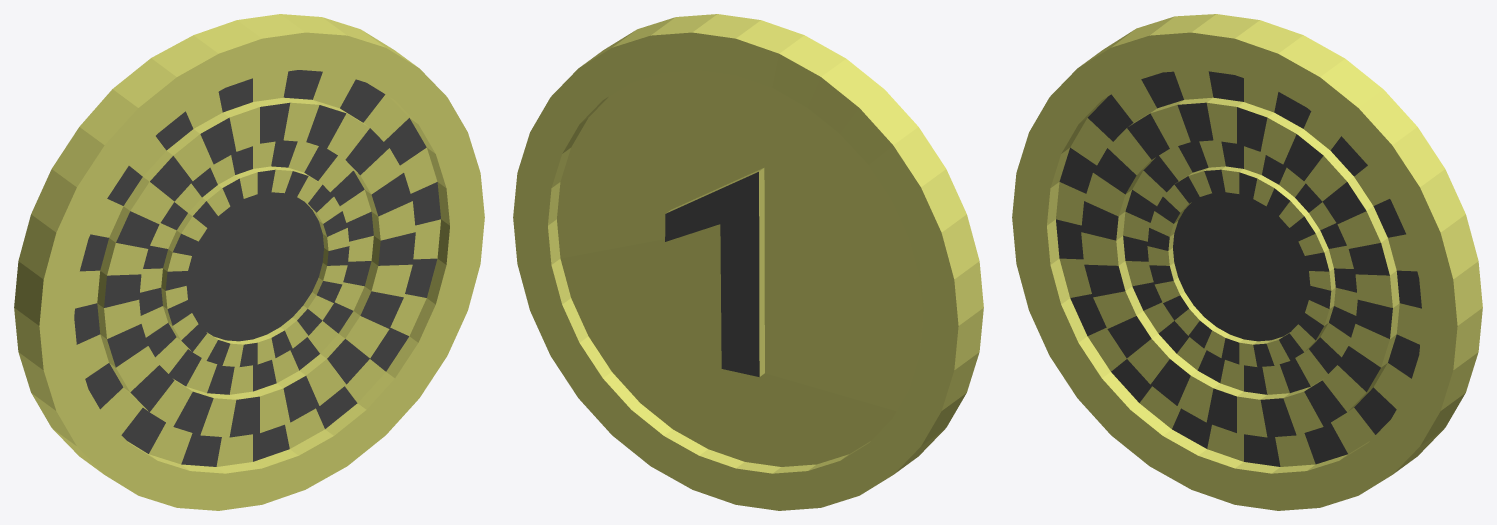
File: coin.fbx
3 renders of one model, left to right at view 1: azimuth 30°, elevation 25°; view 2: azimuth 150°, elevation 25°; view 3: azimuth 330°, elevation 25°, orthographic.
Parts seen in each view (by area): view 1: Cylinder; view 2: Cylinder; view 3: Cylinder.
Part boxes in pixels (left/top/right/bottom): Cylinder: left=14, top=14, right=484, bottom=510; Cylinder: left=513, top=14, right=983, bottom=510; Cylinder: left=1012, top=14, right=1482, bottom=510.
Bounding box in the file's own units: 200 × 200 × 19.92.
